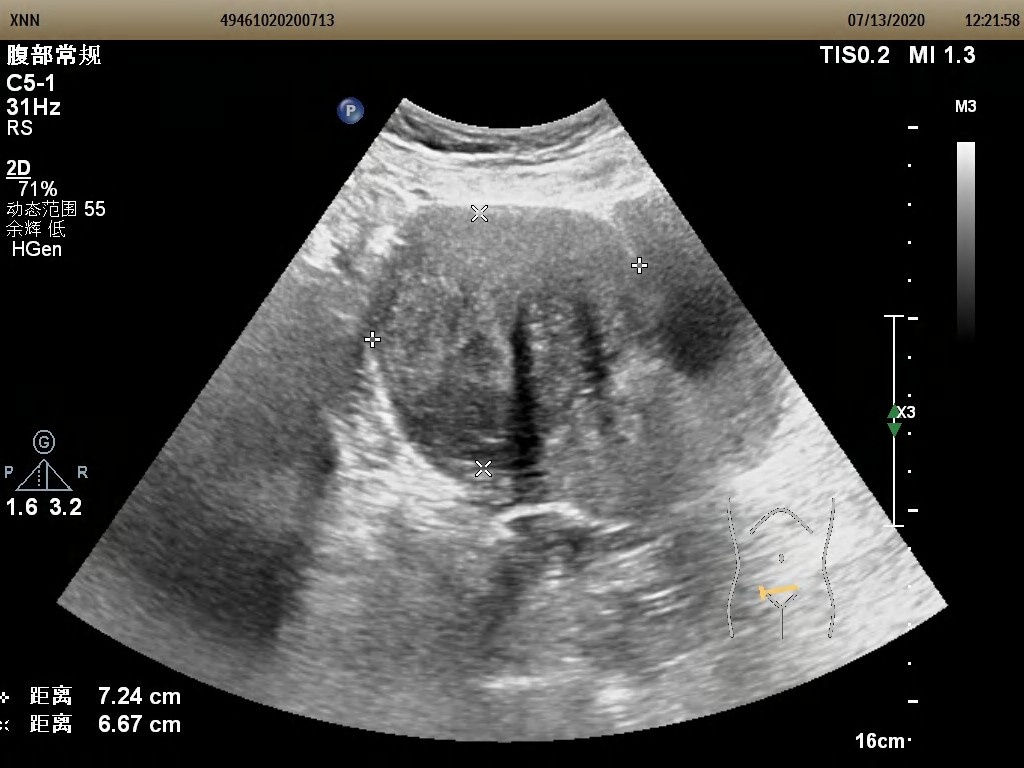肌瘤: (373, 209, 642, 473)
